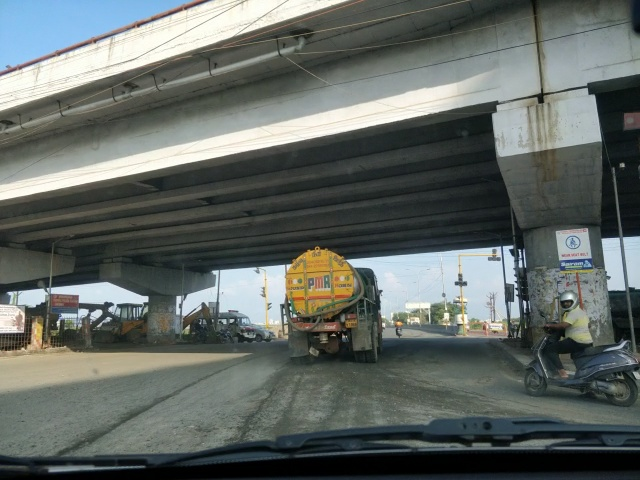car: (260, 327, 275, 341)
motorbike: (527, 311, 639, 404), (189, 323, 208, 346), (396, 321, 405, 341)
person: (552, 296, 592, 383)
truck: (283, 252, 378, 367), (214, 312, 256, 341)
